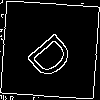D: (25, 25, 83, 83)
